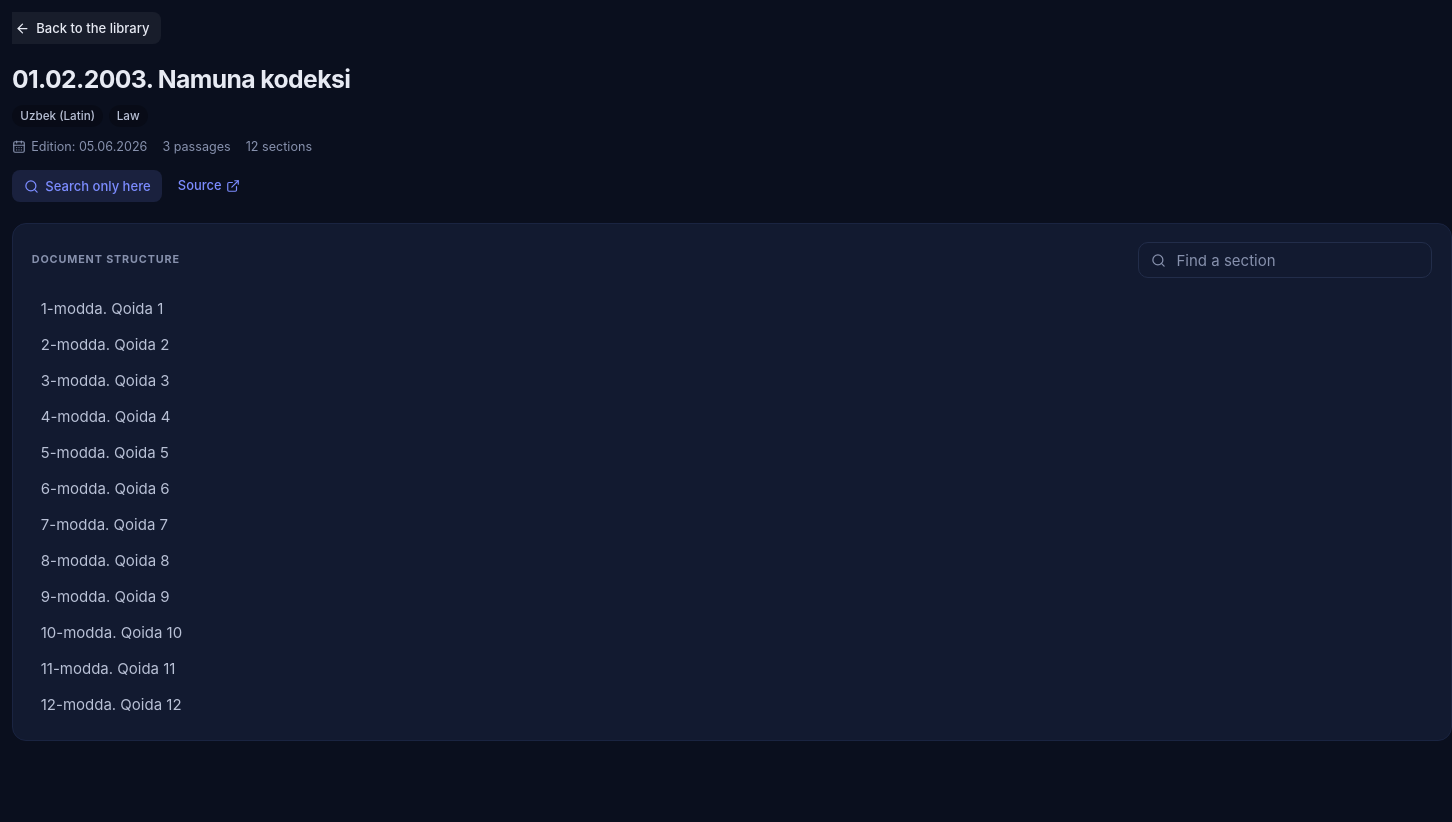
Test case: DocumentDetails › filters a long structure by heading
Step 1. Type "12-modda" into the search field labelled "Find a section" → (1296, 260), box top-left (1174, 243), bottom-right (1418, 277)
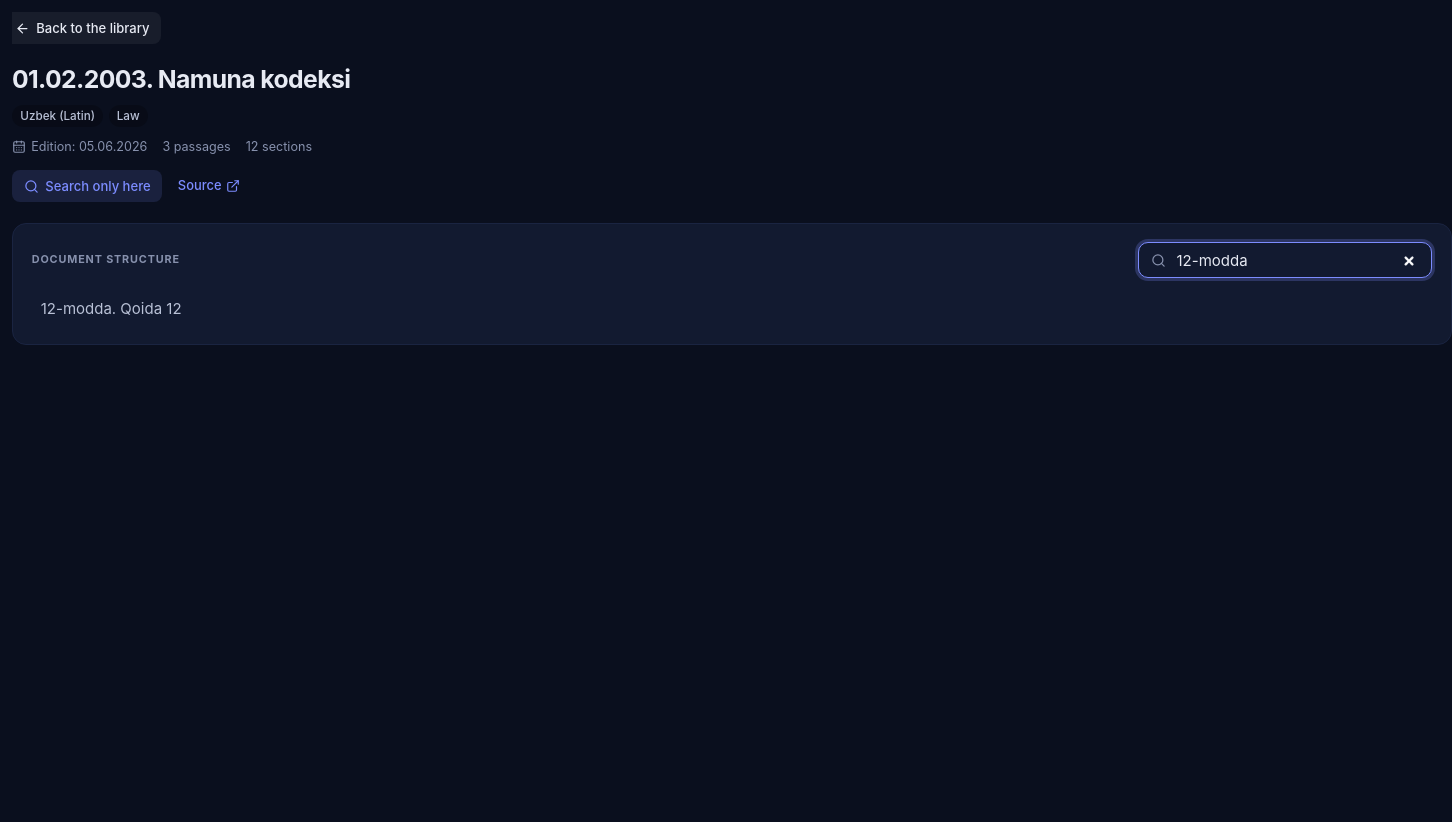
Expected: the number of list items is 1, top-left (32, 290), bottom-right (1432, 326)
Step 2. Type "x" into the search field named "Find a section" → (1296, 260), box top-left (1174, 243), bottom-right (1418, 277)
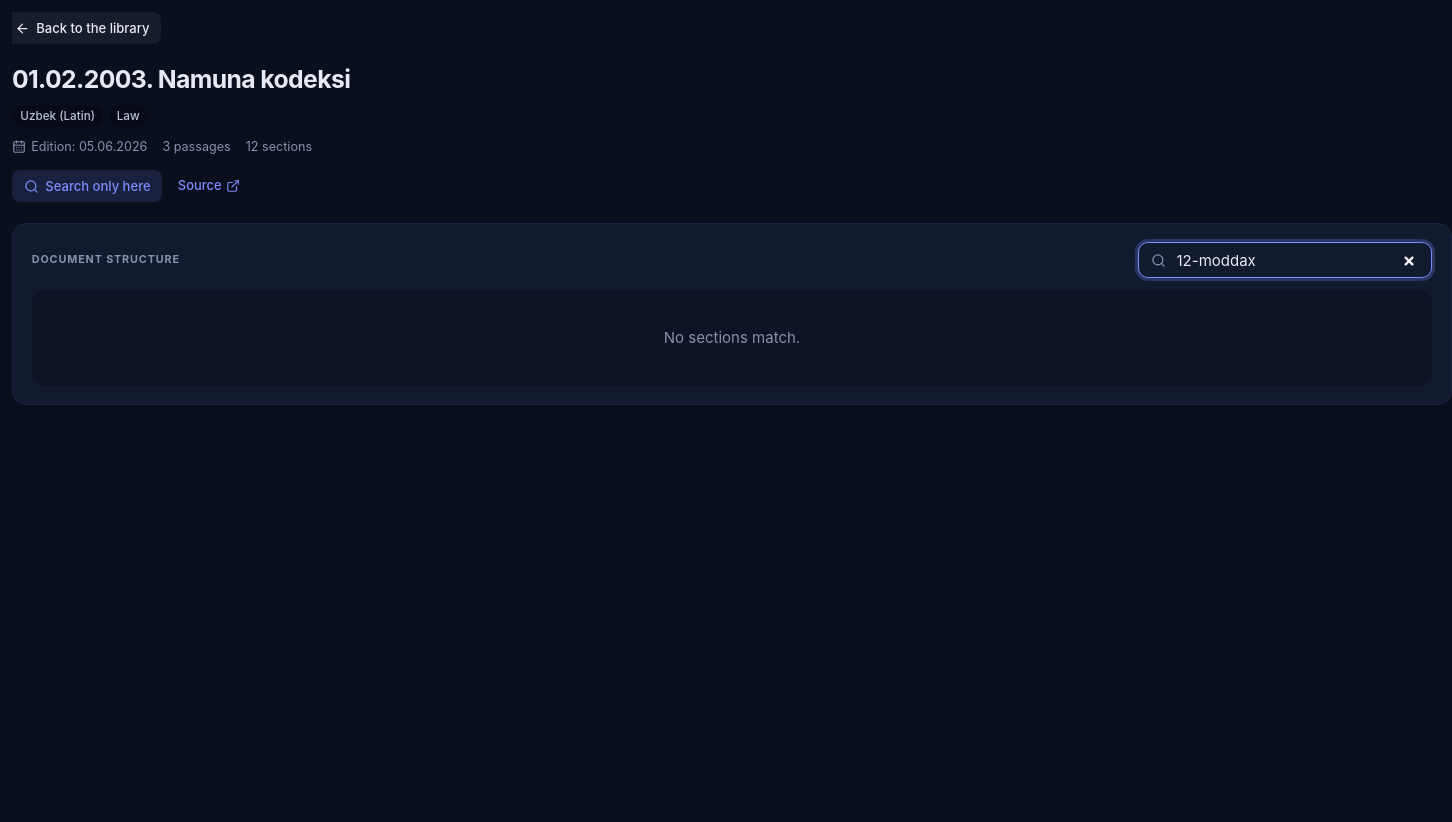
Expected: the text "No sections match." is shown, top-left (32, 290), bottom-right (1432, 386)
